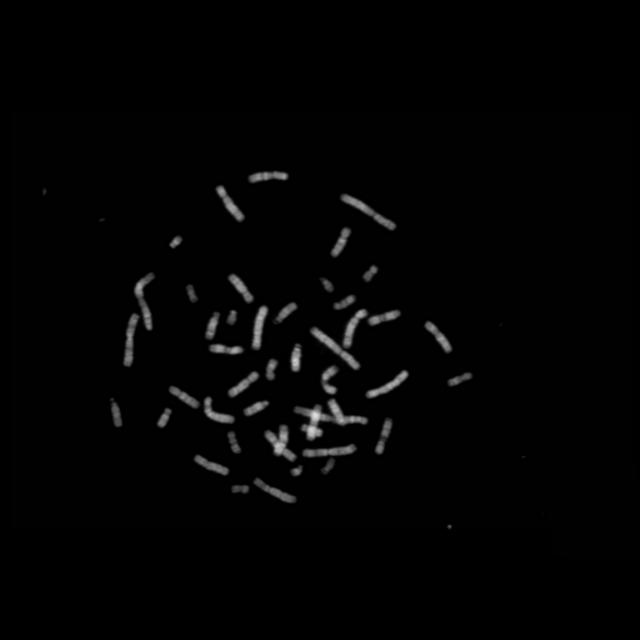chromosome: (311, 327, 359, 369), (342, 194, 396, 230), (366, 369, 408, 398), (293, 408, 367, 424), (135, 273, 155, 331), (254, 478, 296, 502), (264, 431, 296, 461), (216, 186, 244, 220), (343, 310, 367, 348), (425, 321, 453, 353), (123, 313, 139, 367), (206, 396, 234, 424), (229, 371, 259, 397), (194, 455, 228, 475), (252, 307, 268, 349), (229, 274, 253, 302), (170, 385, 198, 409), (302, 444, 356, 456), (376, 418, 392, 454), (330, 228, 350, 256), (368, 309, 402, 325), (306, 406, 322, 440), (274, 423, 288, 459), (328, 399, 347, 425), (322, 366, 338, 394), (275, 302, 297, 322), (110, 396, 124, 426), (244, 400, 268, 416), (249, 172, 286, 182), (210, 344, 242, 354), (206, 312, 218, 338), (334, 294, 356, 308), (291, 342, 301, 371), (448, 372, 472, 384), (185, 284, 199, 304), (228, 432, 240, 454), (157, 408, 170, 428), (266, 360, 278, 380), (303, 424, 322, 436), (363, 266, 377, 282), (319, 278, 333, 292), (322, 458, 334, 474), (170, 236, 182, 248), (228, 310, 237, 326), (232, 486, 248, 494), (292, 466, 304, 476)
